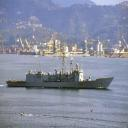Fragata: (6, 45, 116, 92)
